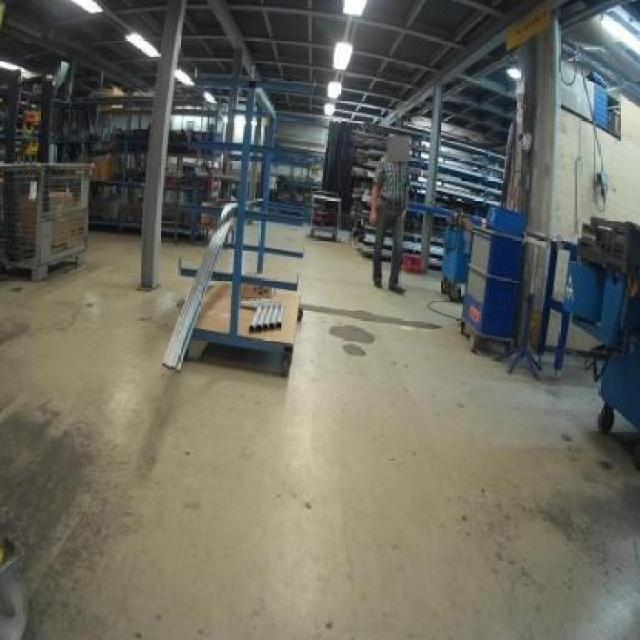floor: (0, 228, 637, 637)
pallets: (185, 282, 300, 374), (0, 163, 88, 277), (458, 206, 522, 348)
